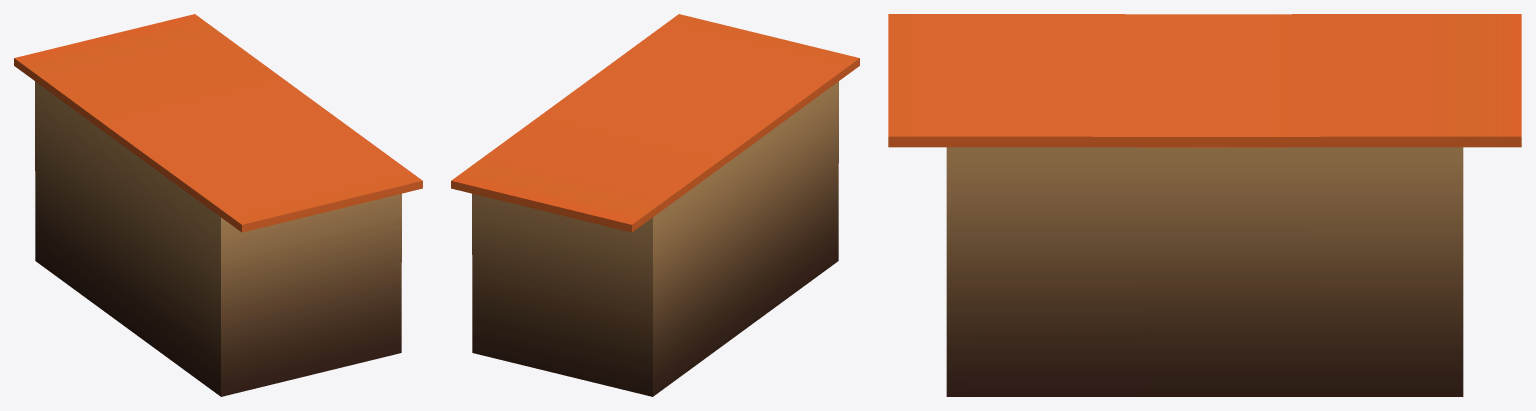
Rendered from Island.FBX.
3 views of the same model, side by side, from view 1: azimuth 30°, elevation 25°; view 2: azimuth 150°, elevation 25°; view 3: azimuth 270°, elevation 25° (orthographic). The views are drawn at different scales.
Parts seen in each view (by area): view 1: counter island001; view 2: counter island001; view 3: counter island001.
Part boxes in pixels (x1=…): counter island001: x1=14, y1=14, x2=422, y2=396; counter island001: x1=451, y1=14, x2=859, y2=396; counter island001: x1=888, y1=14, x2=1521, y2=396.
Size of the model in its own units: 69.65 by 68.9 by 152.
Materials: 1 (1 with a texture image).
